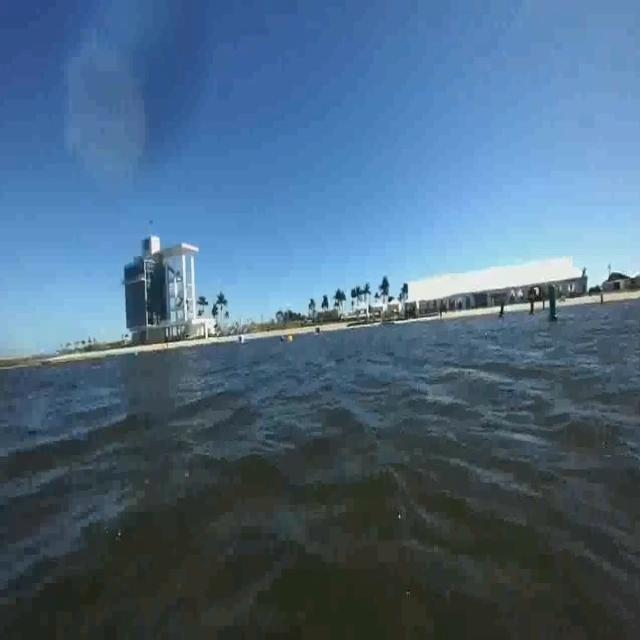green-column-buoy: (548, 285, 560, 323)
yellow-buoy: (288, 335, 293, 345)
